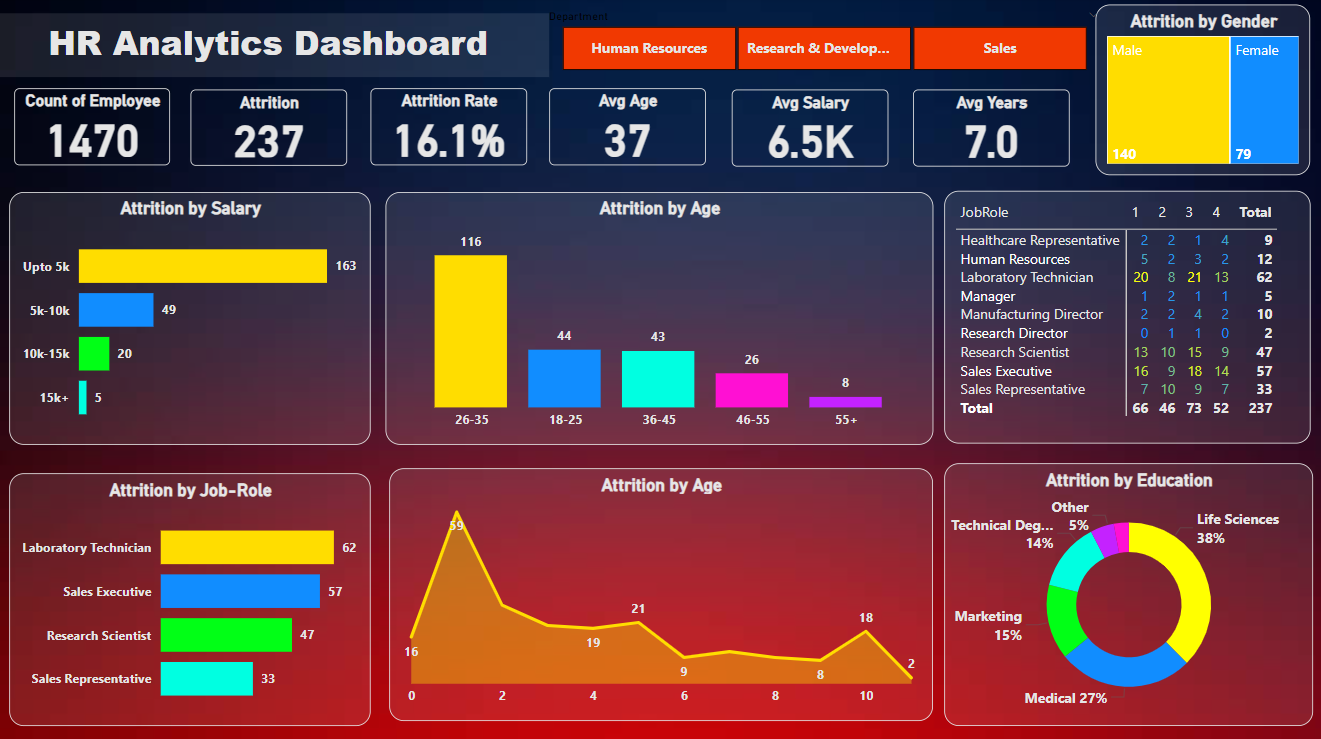

What the dashboard file says about the page in this screenshot:
{"tool":"powerbi","page":{"name":"Page 1","canvas":[1280,720],"ordinal":0},"visuals":[{"type":"card","title":"Count of Employee","fields":{"Values":["CountNonNull(HR_Analytics.EmpID)"]},"box":[15.5,87.8,150.5,74.6],"z":0},{"type":"card","title":"Avg Age","fields":{"Values":["Avg(HR_Analytics.Age)"]},"box":[532.4,88.2,150.8,74.8],"z":1000},{"type":"card","title":"Attrition Rate","fields":{"Values":["HR_Analytics.AttritionRate"]},"box":[359.9,88.2,150.8,74.8],"z":2000},{"type":"card","title":"Attrition","fields":{"Values":["Sum(HR_Analytics.AttritionCount)"]},"box":[186.2,89.4,150.8,73.6],"z":3000},{"type":"card","title":"Avg Salary","fields":{"Values":["Avg(HR_Analytics.MonthlyIncome)"]},"box":[708.6,89.4,150.8,74.8],"z":4000},{"type":"card","title":"Avg Years","fields":{"Values":["Avg(HR_Analytics.YearsAtCompany)"]},"box":[883.5,89.4,150.8,74.8],"z":5000},{"type":"donutChart","title":"Attrition by Education","fields":{"Category":["HR_Analytics.EducationField"],"Y":["Sum(HR_Analytics.AttritionCount)"]},"box":[913.3,450,355.9,253.4],"z":6000},{"type":"columnChart","title":"Attrition by Age","fields":{"Category":["HR_Analytics.AgeGroup"],"Y":["Sum(HR_Analytics.AttritionCount)"]},"box":[374,188.2,528.4,243.7],"z":7000},{"type":"pivotTable","fields":{"Rows":["HR_Analytics.JobRole"],"Columns":["HR_Analytics.JobSatisfaction"],"Values":["Sum(HR_Analytics.AttritionCount)"]},"box":[913.3,187,353.5,243.7],"z":8000},{"type":"barChart","title":"Attrition by Salary","fields":{"Category":["HR_Analytics.SalarySlab"],"Y":["Sum(HR_Analytics.AttritionCount)"]},"box":[10.9,188.2,348.7,243.7],"z":9000},{"type":"barChart","title":"Attrition by Job-Role","fields":{"Category":["HR_Analytics.JobRole"],"Y":["Sum(HR_Analytics.AttritionCount)"]},"box":[10.9,459.7,348.7,243.7],"z":10000},{"type":"areaChart","title":"Attrition by Age","fields":{"Category":["HR_Analytics.YearsAtCompany"],"Y":["Sum(HR_Analytics.AttritionCount)"]},"box":[377.6,454.8,524.8,243.7],"z":11000},{"type":"treemap","title":"Attrition by Gender","fields":{"Group":["HR_Analytics.Gender"],"Values":["Sum(HR_Analytics.AttritionCount)"]},"box":[1058.8,7.5,207.5,165],"z":12000},{"type":"slicer","fields":{"Values":["HR_Analytics.Department"]},"box":[518.8,7.2,556.2,70],"z":13000},{"type":"textbox","box":[0,15.7,532,61.5],"z":14000}]}

Visuals, with their boxes in screenshot pixels (x1, y1, x2, y2), scaled from the page's 1280x720 canvas onto the 1321x739 screenshot:
"Count of Employee" card: (16,90,171,167)
"Avg Age" card: (549,91,705,167)
"Attrition Rate" card: (371,91,527,167)
"Attrition" card: (192,92,348,167)
"Avg Salary" card: (731,92,887,169)
"Avg Years" card: (912,92,1067,169)
"Attrition by Education" donutChart: (943,462,1310,722)
"Attrition by Age" columnChart: (386,193,931,443)
pivotTable - HR_Analytics.JobRole x HR_Analytics.JobSatisfaction: (943,192,1307,442)
"Attrition by Salary" barChart: (11,193,371,443)
"Attrition by Job-Role" barChart: (11,472,371,722)
"Attrition by Age" areaChart: (390,467,931,717)
"Attrition by Gender" treemap: (1093,8,1307,177)
slicer - HR_Analytics.Department: (535,7,1109,79)
textbox: (0,16,549,79)
